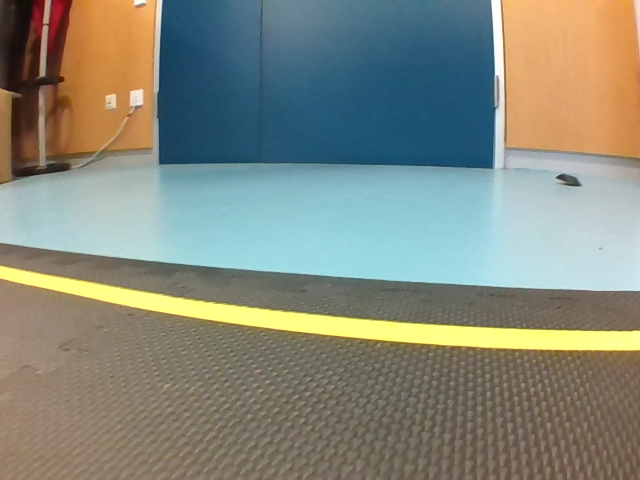30: (548, 90, 600, 158)
no30: (86, 119, 99, 150)
